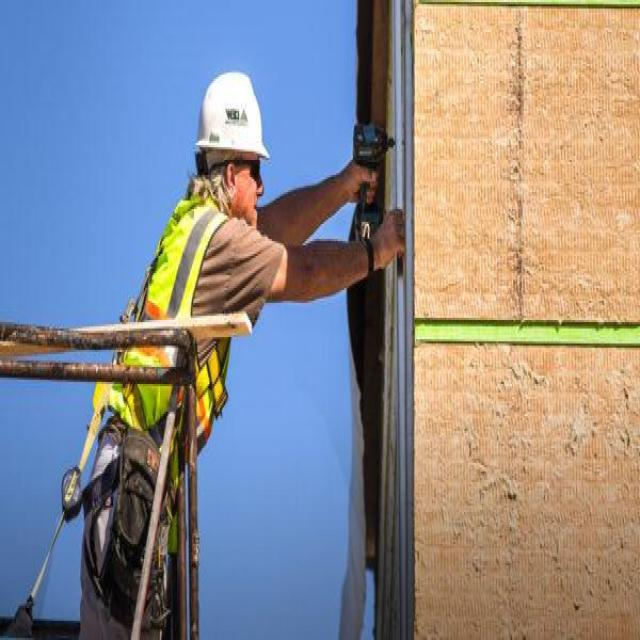Reflective-Jacket: (86, 190, 246, 503)
Safety-Helmet: (189, 60, 272, 170)
